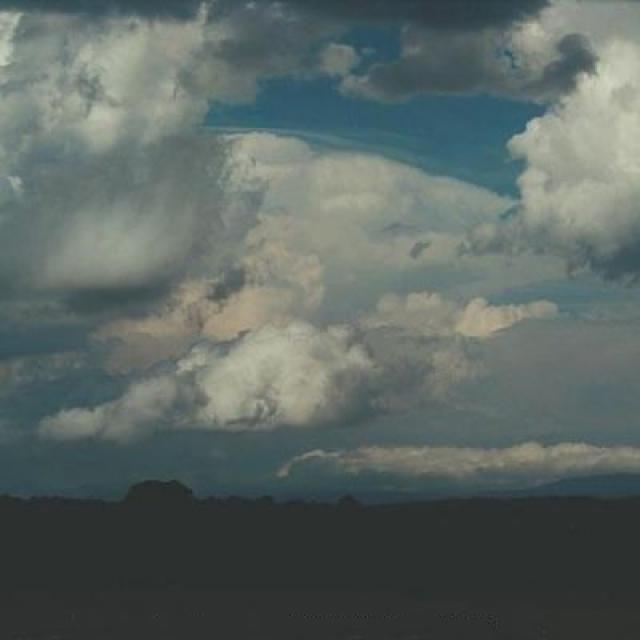Cu: (1, 31, 640, 449)
